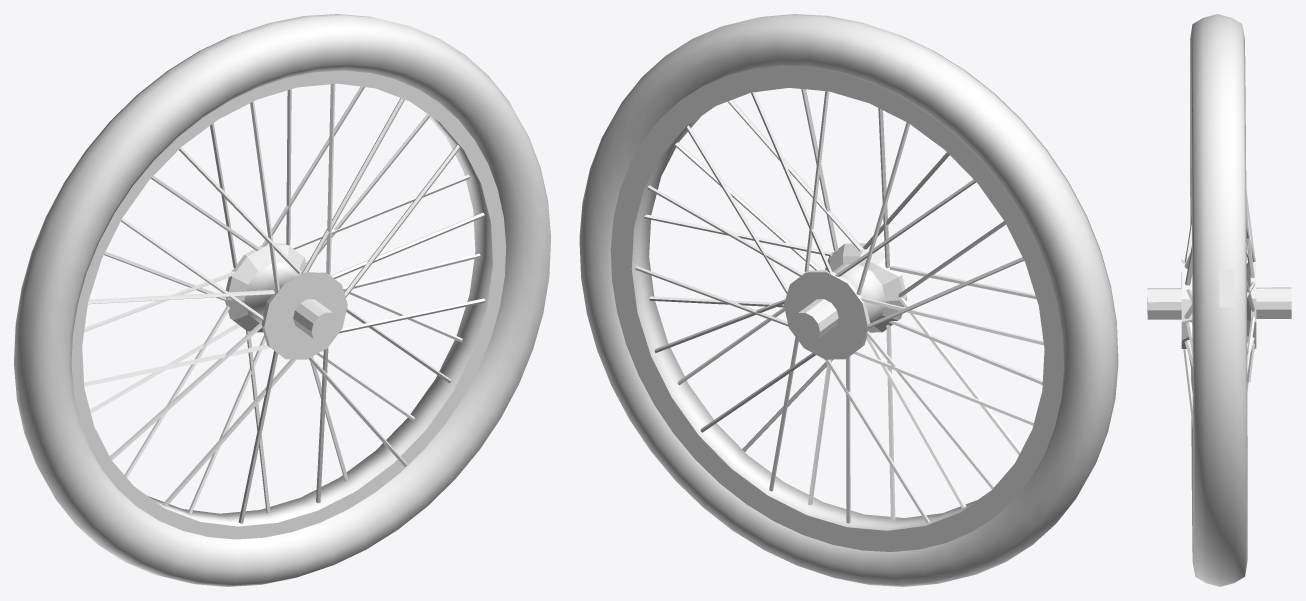
The model's file is bici_ruedafrente.obj.
3 views of the same model, side by side, from view 1: azimuth 30°, elevation 25°; view 2: azimuth 150°, elevation 25°; view 3: azimuth 270°, elevation 25° (orthographic). The views are drawn at different scales.
Visible parts, largest first — view 1: Bike:Front_Wheel_003_Torus_007; view 2: Bike:Front_Wheel_003_Torus_007; view 3: Bike:Front_Wheel_003_Torus_007.
Boxes of the visible parts, x1=… form: Bike:Front_Wheel_003_Torus_007: x1=14, y1=14, x2=550, y2=586; Bike:Front_Wheel_003_Torus_007: x1=579, y1=14, x2=1118, y2=586; Bike:Front_Wheel_003_Torus_007: x1=1147, y1=14, x2=1291, y2=586.
Bounding box in the file's own units: 0.6161 × 0.6161 × 0.155.
Materials: 1 (1 with a texture image).
